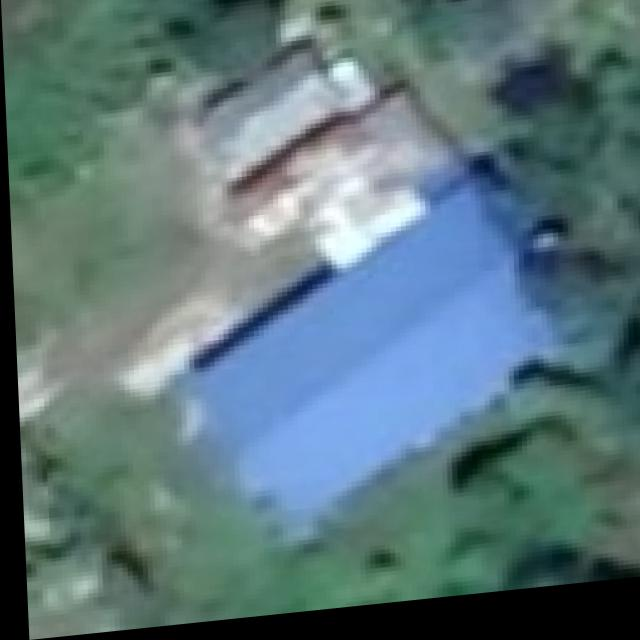Batiment: (190, 190, 547, 524), (198, 48, 459, 277)
